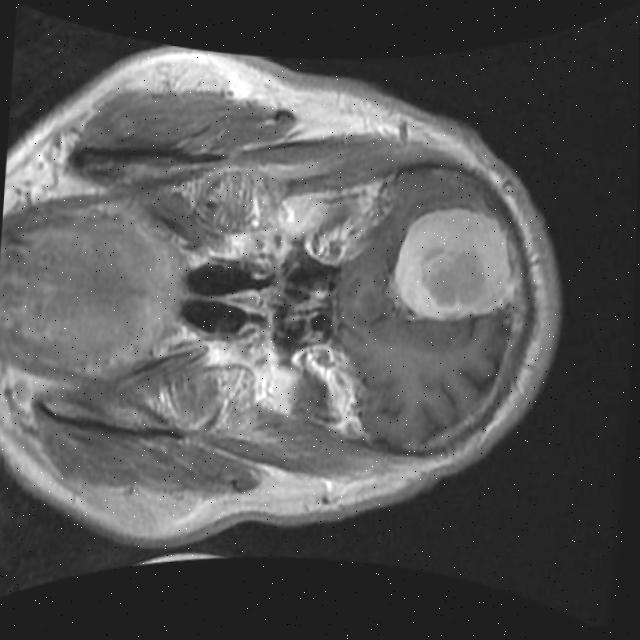Meningioma: (390, 203, 522, 327)
